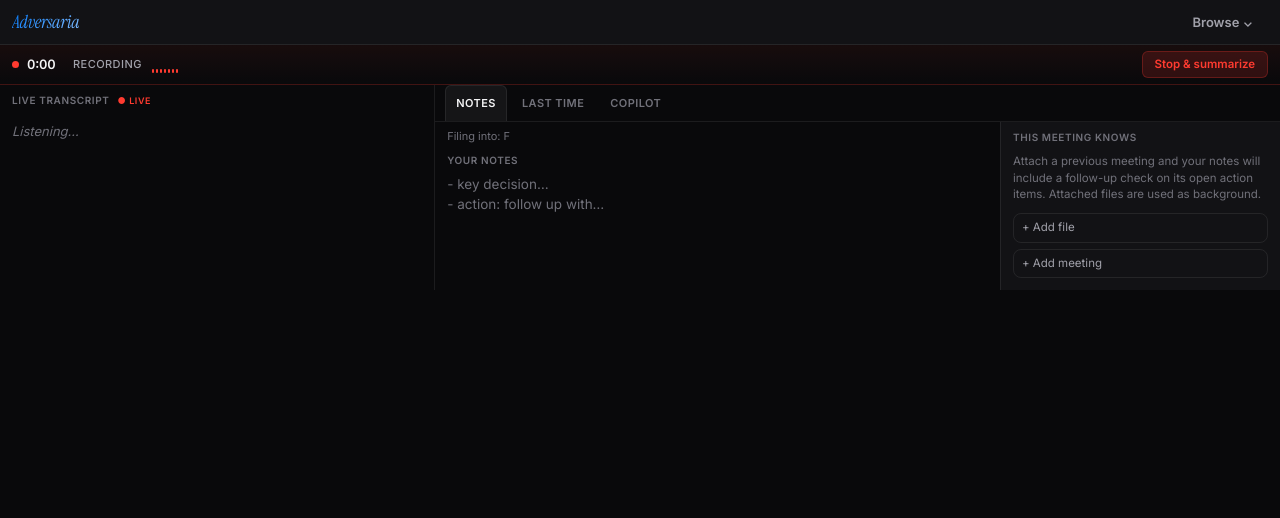
Test case: RecordingCompanion commitment state › caught commitment for current session renders newest first above copilot cards
This screenshot has width=1280, height=518.
Click the tab "Copilot" at (636, 103), box [599,85,672,121]
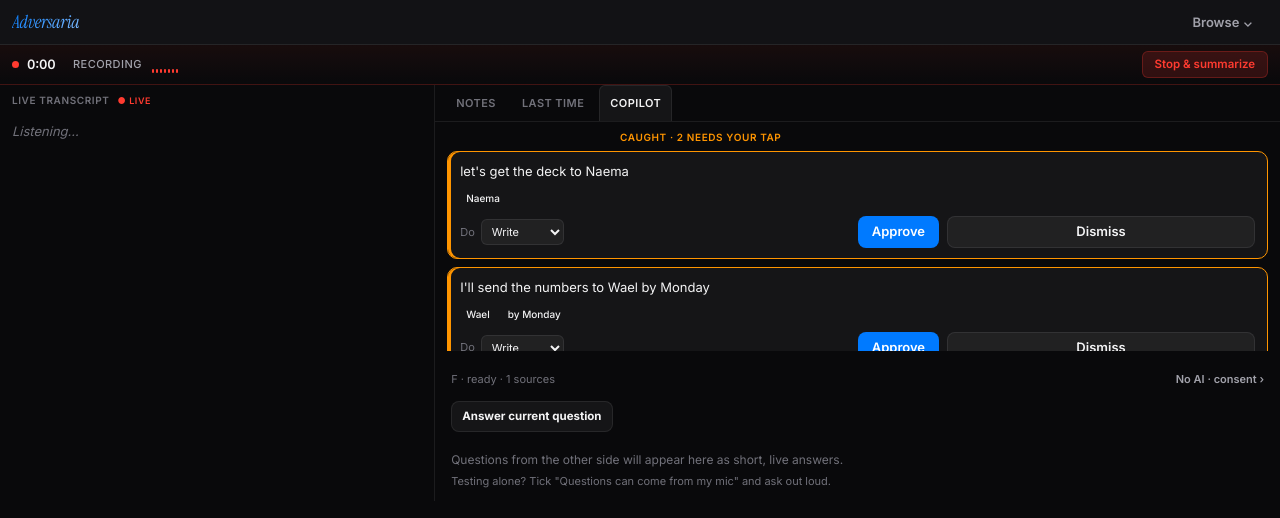
Check: the text "let's get the deck to Naema" is shown, box [460,163,629,179]
Check: the text "I'll send the numbers to Wael by Monday" is shown, box [460,279,710,295]
